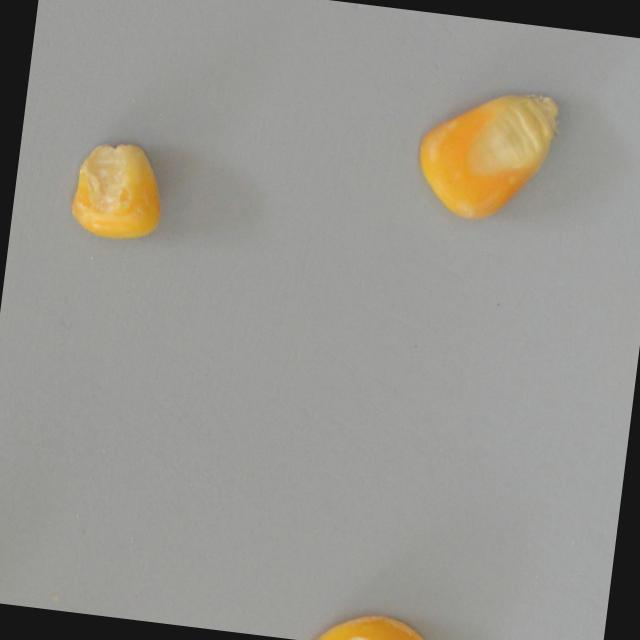entero: (405, 72, 569, 238)
pelicula: (63, 128, 175, 248), (295, 599, 449, 640)
